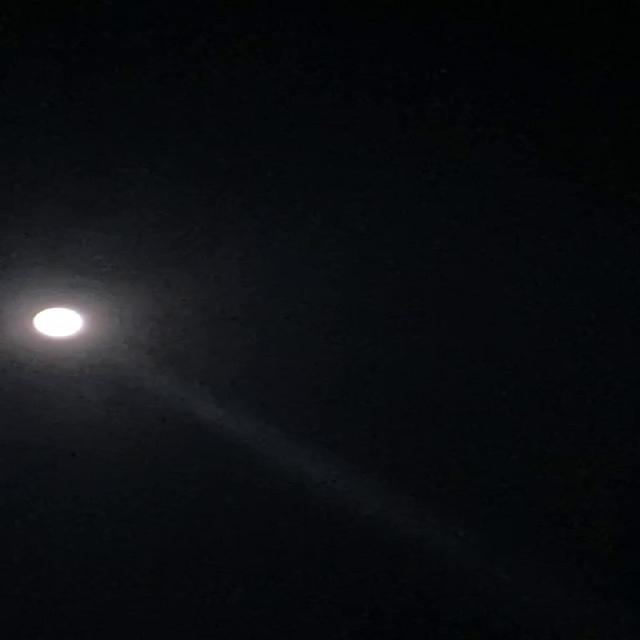moon: (17, 296, 108, 342)
